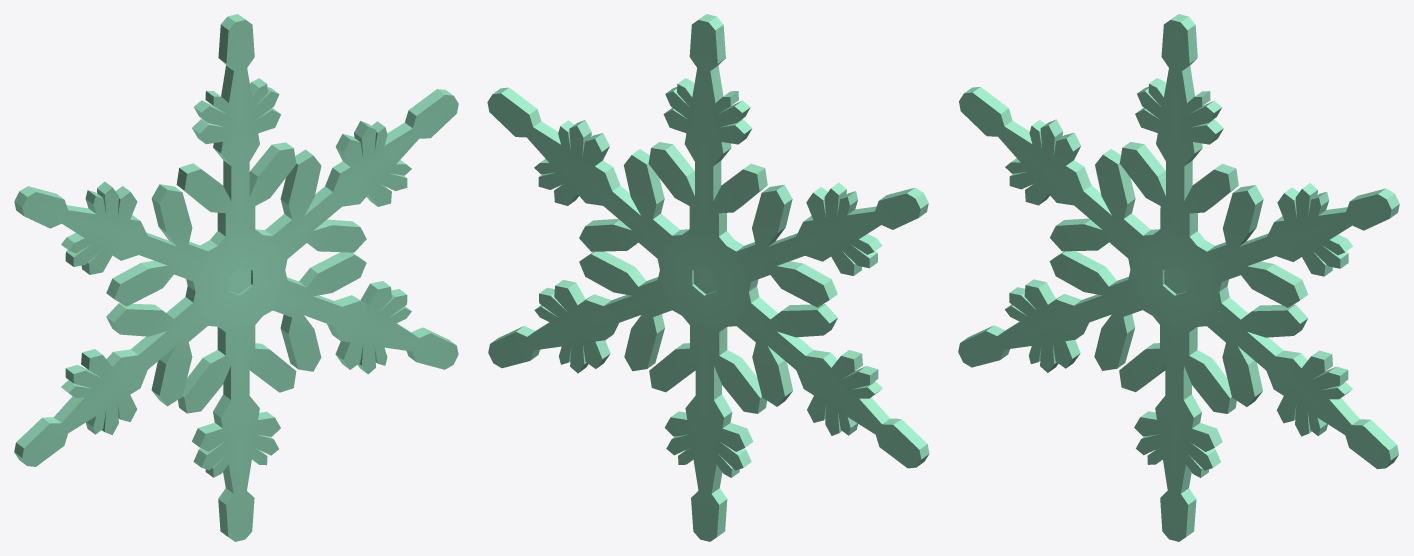
Rendered from Snowflake.004.glb.
The picture shows the model from 3 angles, left to right: view 1: azimuth 30°, elevation 25°; view 2: azimuth 150°, elevation 25°; view 3: azimuth 330°, elevation 25°; orthographic projection.
Parts seen in each view (by area): view 1: Snowflake.004; view 2: Snowflake.004; view 3: Snowflake.004.
Boxes of the visible parts, box(x1,y1,x2,y2) form: Snowflake.004: box(14, 14, 458, 541); Snowflake.004: box(487, 14, 929, 541); Snowflake.004: box(958, 14, 1399, 541).
Size of the model in its own units: 1182 by 1348 by 48.91.
